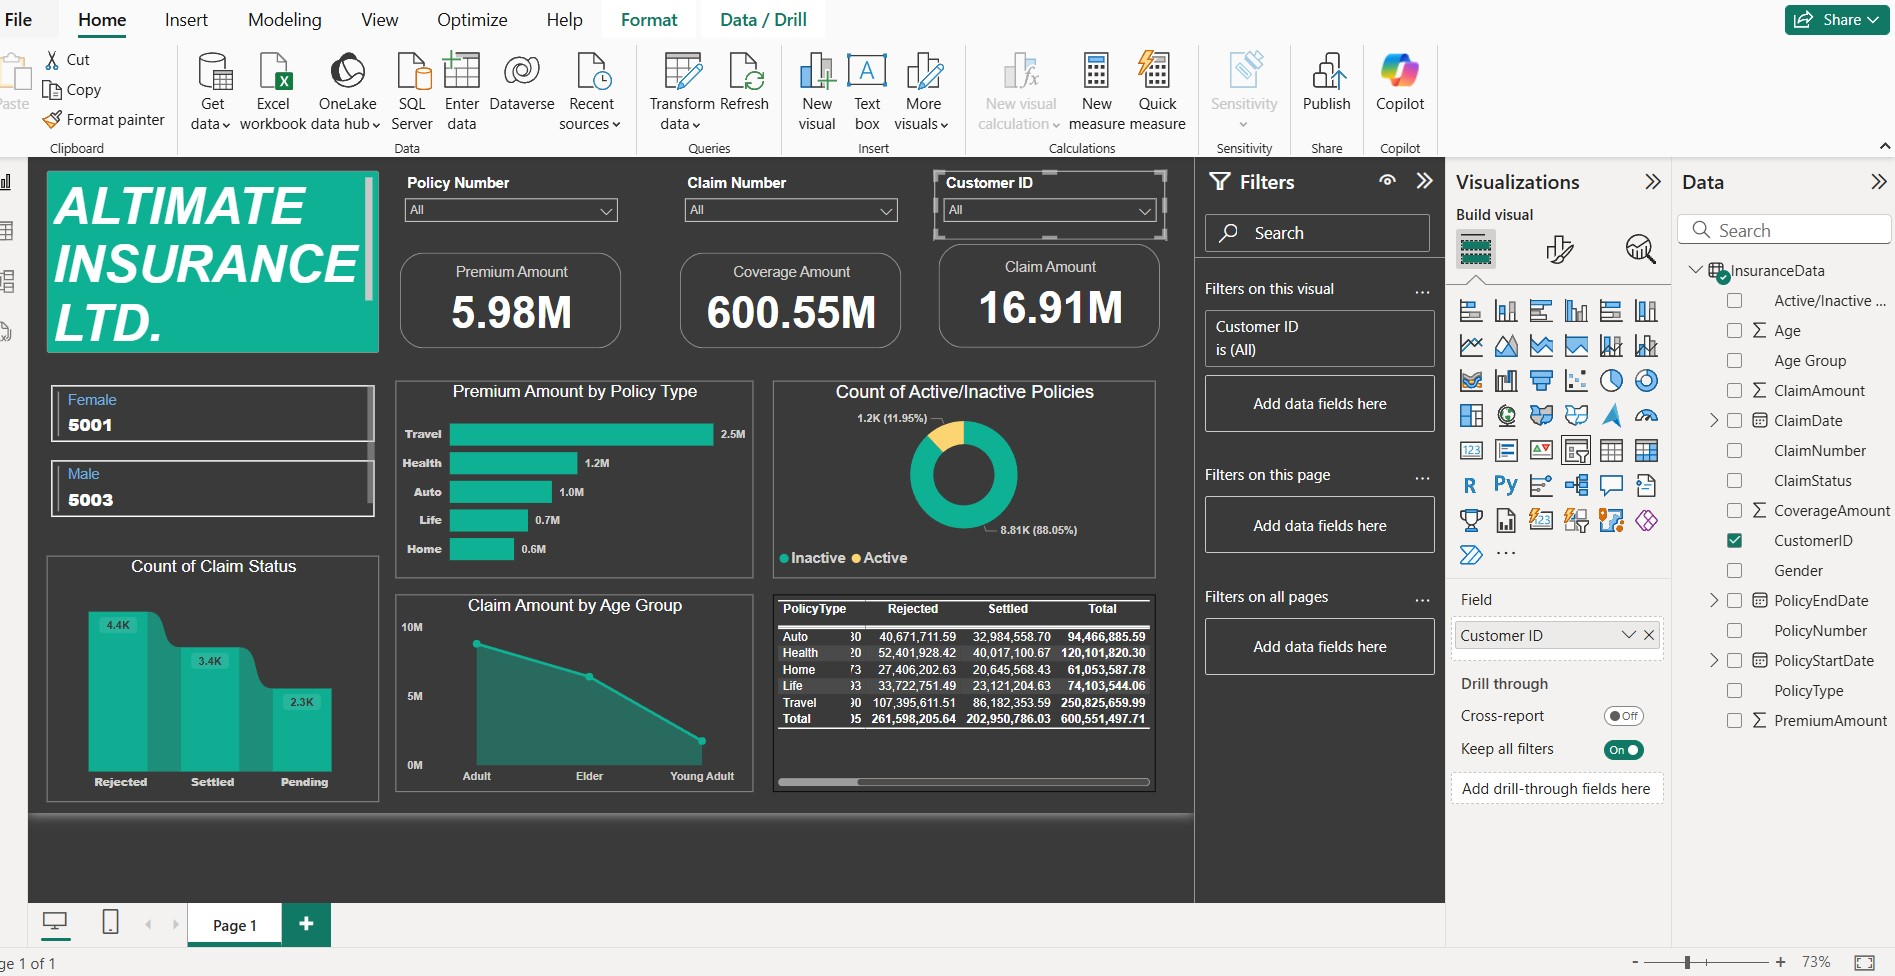

Layout of this report page (visuals, bound fields, positions):
{"tool":"powerbi","page":{"name":"Page 1","canvas":[1280,720],"ordinal":0},"visuals":[{"type":"slicer","fields":{"Values":["InsuranceData.PolicyNumber"]},"box":[403.4,15.1,253.9,75.5],"z":0},{"type":"slicer","fields":{"Values":["InsuranceData.ClaimNumber"]},"box":[710.8,15.1,253.9,75.5],"z":1000},{"type":"slicer","fields":{"Values":["InsuranceData.CustomerID"]},"box":[994.9,15.1,253.9,75.5],"z":2000},{"type":"textbox","box":[20.6,15.1,365,200.3],"z":3000},{"type":"cardVisual","fields":{"Data":["Sum(InsuranceData.PremiumAmount)"]},"box":[403.4,100.2,253.9,115.3],"z":4000},{"type":"cardVisual","fields":{"Data":["Sum(InsuranceData.CoverageAmount)"]},"box":[710.8,100.2,253.9,115.3],"z":5000},{"type":"cardVisual","fields":{"Data":["Sum(InsuranceData.ClaimAmount)"]},"box":[994.9,90.6,253.9,124.9],"z":6000},{"type":"multiRowCard","fields":{"Values":["InsuranceData.Gender","CountNonNull(InsuranceData.Gender)"]},"box":[20.6,245.6,365,156.4],"z":7000},{"type":"ribbonChart","title":"Count of  Claim Status","fields":{"Category":["InsuranceData.ClaimStatus"],"Y":["CountNonNull(InsuranceData.ClaimStatus)"]},"box":[20.6,437.7,365,270.3],"z":8000},{"type":"barChart","fields":{"Category":["InsuranceData.PolicyType"],"Y":["Sum(InsuranceData.PremiumAmount)"]},"box":[403.4,245.6,392.5,216.8],"z":8001},{"type":"lineChart","fields":{"Category":["InsuranceData.Age Group"],"Y":["Sum(InsuranceData.ClaimAmount)"]},"box":[403.4,480.3,392.5,216.8],"z":8002},{"type":"donutChart","title":"Count of Active/Inactive Policies","fields":{"Category":["InsuranceData.Active/Inactive Policy"],"Y":["CountNonNull(InsuranceData.Active/Inactive Policy)"]},"box":[817.8,245.6,419.9,216.8],"z":8003},{"type":"pivotTable","fields":{"Rows":["InsuranceData.PolicyType"],"Values":["Sum(InsuranceData.CoverageAmount)"],"Columns":["InsuranceData.ClaimStatus"]},"box":[817.8,480.3,419.9,216.8],"z":8004}]}

Visuals, with their boxes on the page's 1280x720 design canvas (x1, y1, x2, y2). These are canvas units, not pixel positions in the 1895x976 screenshot, which may show the page scaled, cropped or inside an application window:
slicer - InsuranceData.PolicyNumber: [x1=403, y1=15, x2=657, y2=91]
slicer - InsuranceData.ClaimNumber: [x1=711, y1=15, x2=965, y2=91]
slicer - InsuranceData.CustomerID: [x1=995, y1=15, x2=1249, y2=91]
textbox: [x1=21, y1=15, x2=386, y2=215]
cardVisual - Sum(InsuranceData.PremiumAmount): [x1=403, y1=100, x2=657, y2=216]
cardVisual - Sum(InsuranceData.CoverageAmount): [x1=711, y1=100, x2=965, y2=216]
cardVisual - Sum(InsuranceData.ClaimAmount): [x1=995, y1=91, x2=1249, y2=216]
multiRowCard - InsuranceData.Gender x CountNonNull(InsuranceData.Gender): [x1=21, y1=246, x2=386, y2=402]
"Count of  Claim Status" ribbonChart: [x1=21, y1=438, x2=386, y2=708]
barChart - InsuranceData.PolicyType x Sum(InsuranceData.PremiumAmount): [x1=403, y1=246, x2=796, y2=462]
lineChart - InsuranceData.Age Group x Sum(InsuranceData.ClaimAmount): [x1=403, y1=480, x2=796, y2=697]
"Count of Active/Inactive Policies" donutChart: [x1=818, y1=246, x2=1238, y2=462]
pivotTable - InsuranceData.PolicyType x Sum(InsuranceData.CoverageAmount): [x1=818, y1=480, x2=1238, y2=697]
